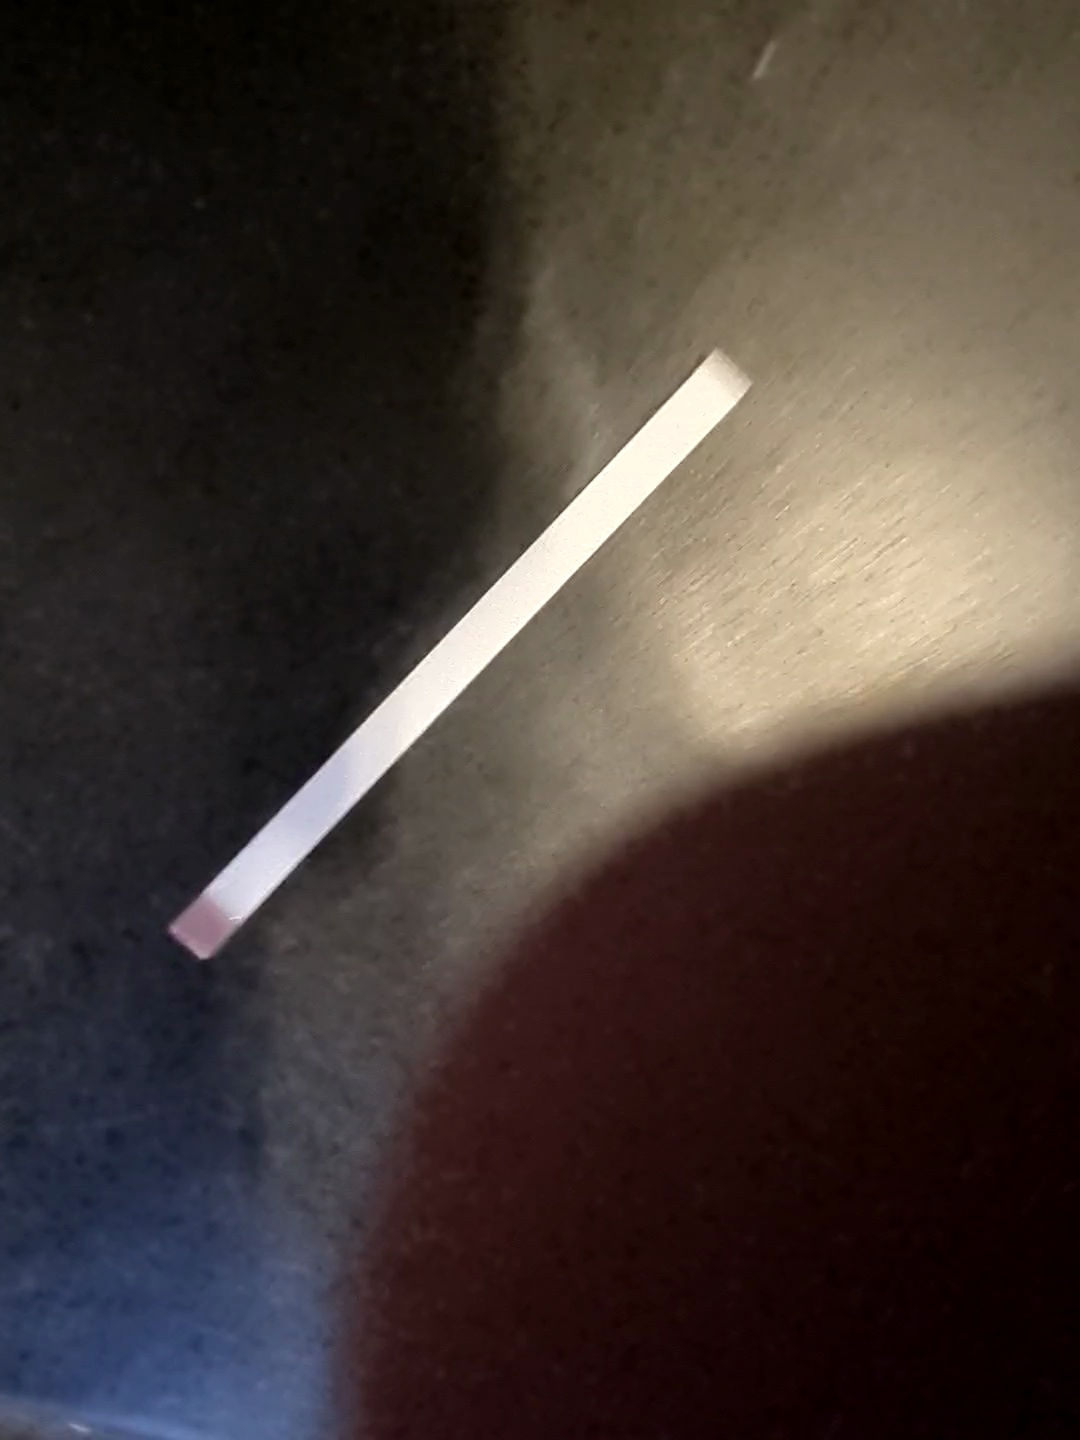keto-tip: (162, 891, 244, 963)
